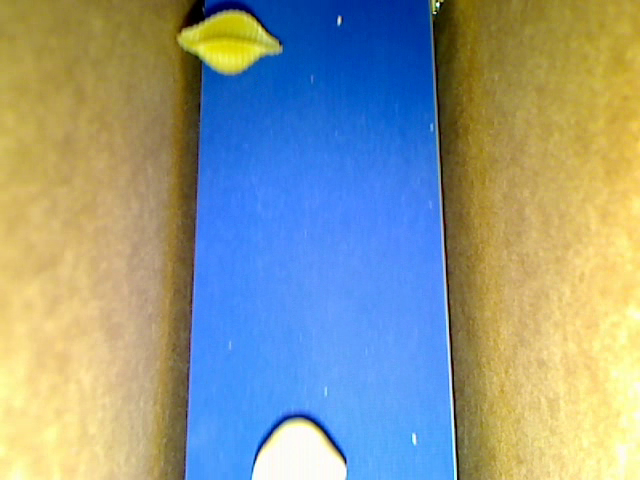shell: (175, 7, 282, 78)
